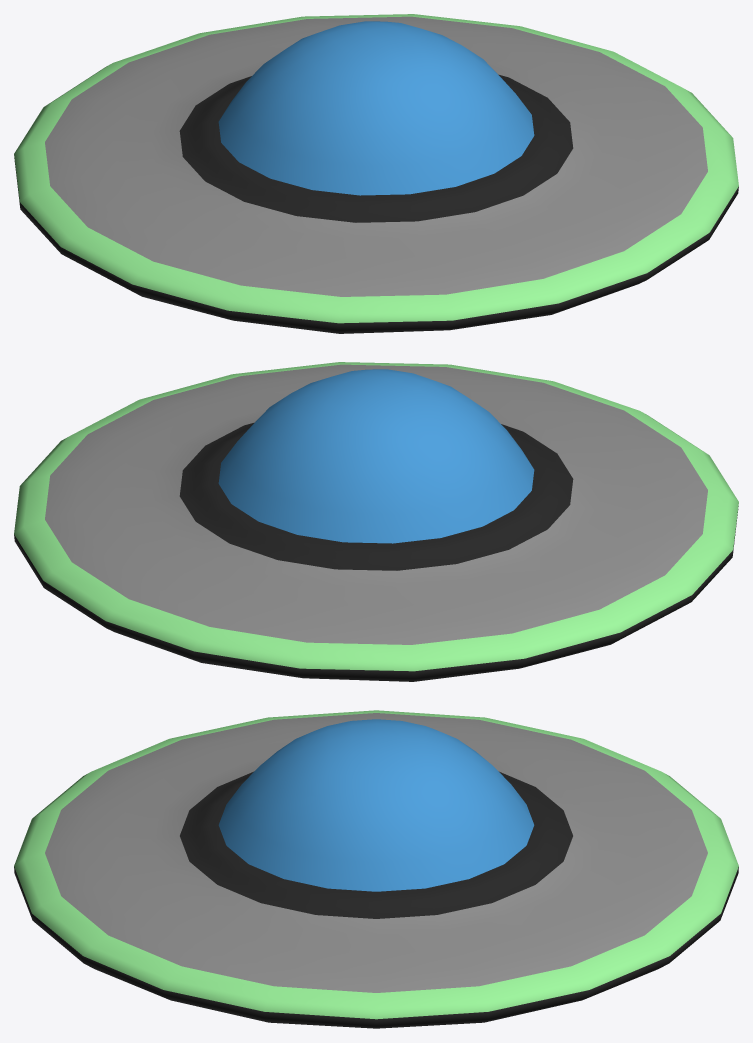
File: UFO.fbx
3 views of the same model, one above another, from view 1: azimuth 30°, elevation 25°; view 2: azimuth 150°, elevation 25°; view 3: azimuth 270°, elevation 25° (orthographic).
Visible parts, largest first — view 1: ufo; view 2: ufo; view 3: ufo.
Boxes of the visible parts, <box> form: ufo: <box>14,14,738,333</box>; ufo: <box>14,362,738,681</box>; ufo: <box>14,710,738,1028</box>.
Bounding box in the file's own units: 1228 × 440 × 1229.
Materials: 1 (1 with a texture image).
